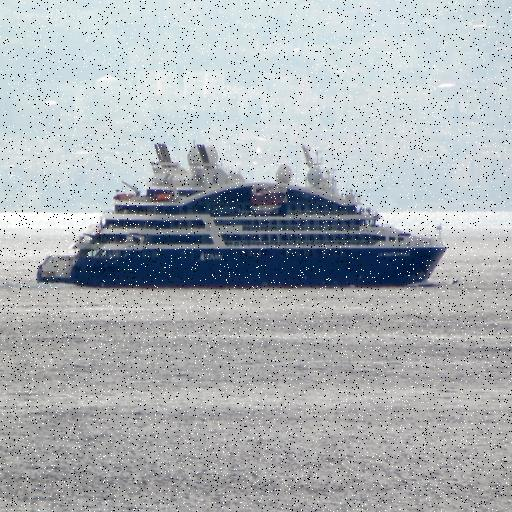cruises: (31, 130, 457, 302)
